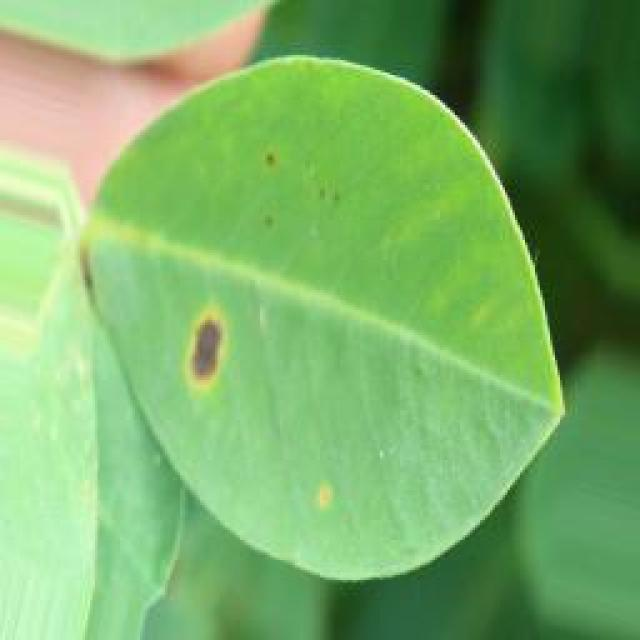Early_leaf_spot: (239, 137, 361, 248), (149, 299, 240, 415), (273, 449, 364, 532)
